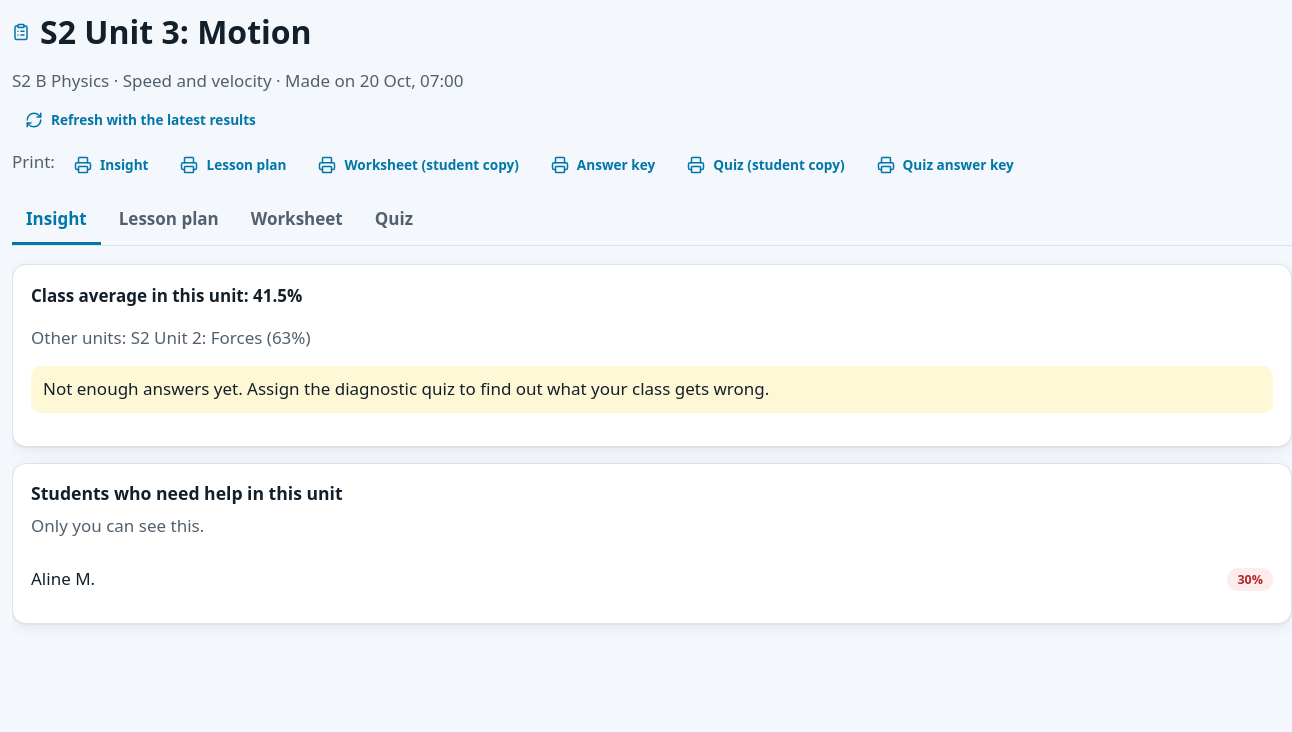
Scenario: Teaching pack page › says when there are not enough answers and marks the diagnostic quiz
The width and height of the screenshot is (1292, 732).
Expected: the text "Not enough answers yet" is shown, x1=43 y1=377 x2=769 y2=400
Click the tab "Quiz" at (394,220), box x1=361 y1=196 x2=427 y2=245
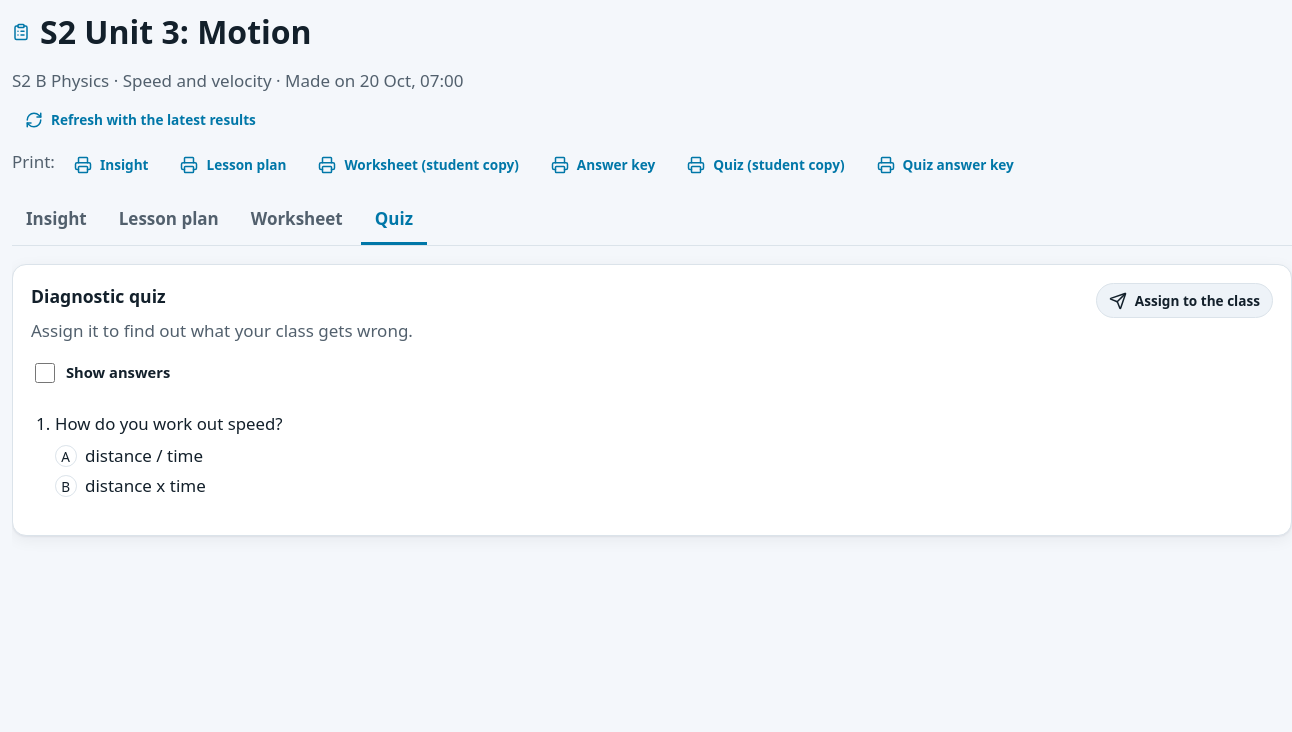
Result: the heading "Diagnostic quiz" is shown at x1=31 y1=285 x2=166 y2=307
